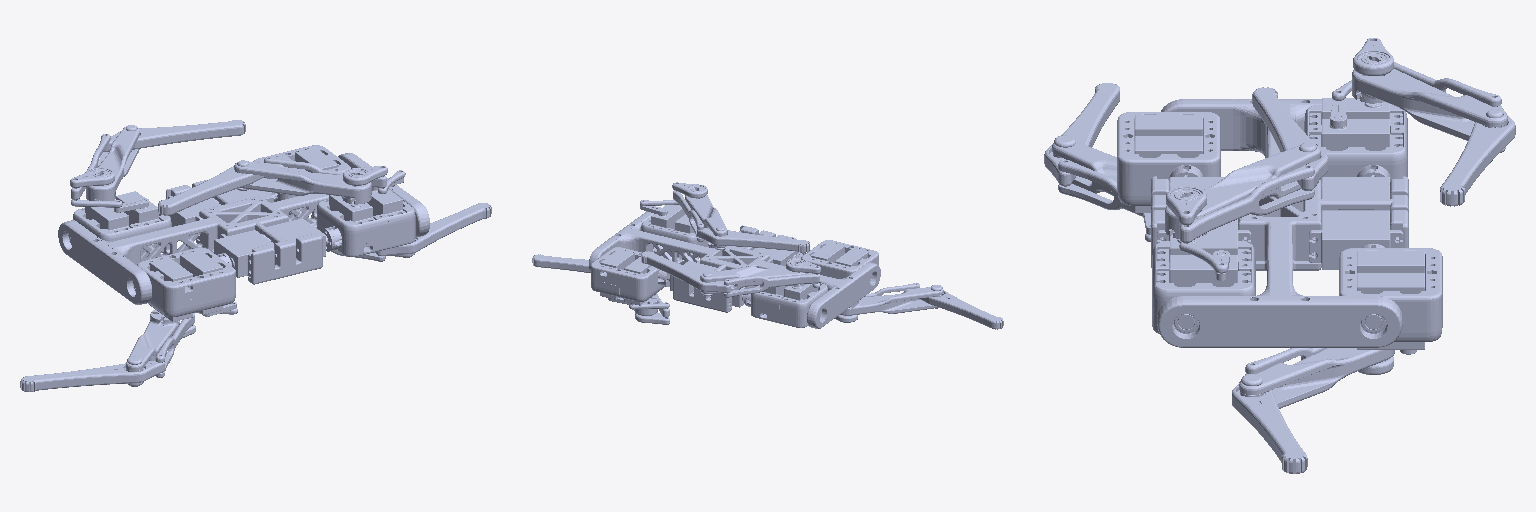
--- What the picture shows (computed from the rendered views, not written in the file) ---
The picture shows the robot from 3 angles, left to right: view 1: azimuth 30°, elevation 25°; view 2: azimuth 150°, elevation 25°; view 3: azimuth 270°, elevation 25°; orthographic projection.
Robot: vettar — 29 links, 28 joints (20 revolute, 8 continuous); root link base_link; default pose: all joints at 0.
Visible links, largest first — view 1: base_link, shoulder_B_R, shoulder_F_R, thighs_F_R, shoulder_B_L, calf_B_R, calf_B_L, thighs_B_L, calf_F_R, calf_F_L, thighs_B_R, shoulder_F_L (+4 smaller); view 2: base_link, shoulder_F_L, shoulder_B_L, shoulder_B_R, thighs_B_R, shoulder_F_R, calf_F_R, calf_B_L, thighs_B_L, calf_B_R, calf_ctrl_link_2_B_L, thighs_F_R (+1 smaller); view 3: base_link, shoulder_B_R, shoulder_F_L, shoulder_B_L, shoulder_F_R, thighs_B_L, thighs_F_L, thighs_F_R, calf_B_L, calf_ctrl_link_2_F_R, calf_F_L, calf_F_R (+8 smaller).
Boxes of the visible links, x1,y1,x2,y2 form: base_link: (58,153,429,304); shoulder_B_R: (135,248,235,321); shoulder_F_R: (317,189,415,256); thighs_F_R: (234,160,371,203); shoulder_B_L: (71,191,171,252); calf_B_R: (20,361,164,391); calf_B_L: (104,120,245,151); thighs_B_L: (86,125,139,200); calf_F_R: (158,166,265,215); calf_F_L: (376,203,491,255); thighs_B_R: (126,310,179,386); shoulder_F_L: (253,145,350,216); base_link: (589,211,880,328); shoulder_F_L: (591,247,669,305); shoulder_B_L: (744,283,827,327); shoulder_B_R: (796,240,878,278); thighs_B_R: (840,285,943,315); shoulder_F_R: (641,205,710,259); calf_F_R: (697,228,809,252); calf_B_L: (641,251,730,293); thighs_B_L: (700,261,807,295); calf_B_R: (919,291,1003,329); calf_ctrl_link_2_B_L: (724,274,819,297); thighs_F_R: (685,187,727,249); base_link: (1151,99,1408,347); shoulder_B_R: (1117,112,1220,212); shoulder_F_L: (1339,244,1442,349); shoulder_B_L: (1304,98,1407,181); shoulder_F_R: (1152,234,1255,333); thighs_B_L: (1352,55,1507,152); thighs_F_L: (1239,348,1394,408); thighs_F_R: (1165,143,1320,238); calf_B_L: (1440,105,1515,206); calf_ctrl_link_2_F_R: (1180,165,1314,242); calf_F_L: (1232,373,1307,473); calf_F_R: (1252,87,1327,190).
Size in the robot's own frame: 0.5226 by 0.2747 by 0.1117 metres.
Meshes: 29 distinct files referenced, 29 mesh visuals loaded (29 binary STL).

The robot description file, URDF, robot "vettar":
<?xml version="1.0" ?>
<!-- =================================================================================== -->
<!-- |    This document was autogenerated by xacro from vettar_description.urdf.xacro  | -->
<!-- |    EDITING THIS FILE BY HAND IS NOT RECOMMENDED                                 | -->
<!-- =================================================================================== -->
<robot name="vettar">
  <link name="base_link">
    <inertial>
      <origin rpy="0 0 0" xyz="0 0 -0.00014"/>
      <mass value="0.396679023415945"/>
      <inertia ixx="0.000363746686904449" ixy="-9.76609071073347E-09" ixz="3.48480589918157E-12" iyy="0.00104522627187434" iyz="-4.57941235308133E-10" izz="0.0013581782694226"/>
    </inertial>
    <visual>
      <origin rpy="0 0 0" xyz="0 0 0"/>
      <geometry>
        <mesh filename="package://vettar_description/meshes/base_link.STL"/>
      </geometry>
      <material name="">
        <color rgba="0.792156862745098 0.819607843137255 0.933333333333333 1"/>
      </material>
    </visual>
    <collision>
      <origin rpy="0 0 0" xyz="0 0 0"/>
      <geometry>
        <mesh filename="package://vettar_description/meshes/base_link.STL"/>
      </geometry>
    </collision>
  </link>
  <link name="shoulder_F_L">
    <inertial>
      <origin rpy="0 0 0" xyz="0.0466819869554319 0.00398419067271394 0.00997792256330394"/>
      <mass value="0.119203480699899"/>
      <inertia ixx="4.49008647458163E-05" ixy="-2.02804766608705E-08" ixz="-3.45414265562375E-06" iyy="4.39339436760174E-05" iyz="-3.33916966792789E-08" izz="2.39881913565821E-05"/>
    </inertial>
    <visual>
      <origin rpy="0 0 0" xyz="0 0 0"/>
      <geometry>
        <mesh filename="package://vettar_description/meshes/shoulder_F_L.STL"/>
      </geometry>
      <material name="">
        <color rgba="0.792156862745098 0.819607843137255 0.933333333333333 1"/>
      </material>
    </visual>
    <collision>
      <origin rpy="0 0 0" xyz="0 0 0"/>
      <geometry>
        <mesh filename="package://vettar_description/meshes/shoulder_F_L.STL"/>
      </geometry>
    </collision>
  </link>
  <joint name="F_L_0" type="revolute">
    <origin rpy="-1.5708 0 0" xyz="0.04685 0.05455 -5E-05"/>
    <parent link="base_link"/>
    <child link="shoulder_F_L"/>
    <axis xyz="1 0 0"/>
    <limit effort="0" lower="0" upper="3.1416" velocity="0"/>
  </joint>
  <link name="thighs_F_L">
    <inertial>
      <origin rpy="0 0 0" xyz="0.0307867646905471 -0.000461376921627524 -0.030805340221158"/>
      <mass value="0.0272931996215248"/>
      <inertia ixx="1.40238605835704E-05" ixy="-2.68315513109657E-07" ixz="1.22583414772541E-05" iyy="2.63265482672728E-05" iyz="2.68517605735526E-07" izz="1.39166912790042E-05"/>
    </inertial>
    <visual>
      <origin rpy="0 0 0" xyz="0 0 0"/>
      <geometry>
        <mesh filename="package://vettar_description/meshes/thighs_F_L.STL"/>
      </geometry>
      <material name="">
        <color rgba="0.792156862745098 0.819607843137255 0.933333333333333 1"/>
      </material>
    </visual>
    <collision>
      <origin rpy="0 0 0" xyz="0 0 0"/>
      <geometry>
        <mesh filename="package://vettar_description/meshes/thighs_F_L.STL"/>
      </geometry>
    </collision>
  </link>
  <joint name="F_L_1" type="revolute">
    <origin rpy="0 0 0" xyz="0.0322 0.0423 0"/>
    <parent link="shoulder_F_L"/>
    <child link="thighs_F_L"/>
    <axis xyz="0 1 0"/>
    <limit effort="0" lower="0" upper="3.1416" velocity="0"/>
  </joint>
  <link name="calf_F_L">
    <inertial>
      <origin rpy="0 0 0" xyz="0.0101406960018604 0 -0.0334060796974647"/>
      <mass value="0.0172535804140555"/>
      <inertia ixx="1.77604626883055E-05" ixy="8.61708375886723E-09" ixz="4.41637781525403E-06" iyy="1.92140238293717E-05" iyz="-2.87034102494065E-08" izz="1.71187663900808E-06"/>
    </inertial>
    <visual>
      <origin rpy="0 0 0" xyz="0 0 0"/>
      <geometry>
        <mesh filename="package://vettar_description/meshes/calf_F_L.STL"/>
      </geometry>
      <material name="">
        <color rgba="0.792156862745098 0.819607843137255 0.933333333333333 1"/>
      </material>
    </visual>
    <collision>
      <origin rpy="0 0 0" xyz="0 0 0"/>
      <geometry>
        <mesh filename="package://vettar_description/meshes/calf_F_L.STL"/>
      </geometry>
    </collision>
  </link>
  <joint name="thighs_to_calf_F_L" type="continuous">
    <origin rpy="0 -1.5708 0" xyz="0.070711 0 -0.070711"/>
    <parent link="thighs_F_L"/>
    <child link="calf_F_L"/>
    <axis xyz="0 1 0"/>
  </joint>
  <link name="servo_arm_F_L">
    <inertial>
      <origin rpy="0 0 0" xyz="0 0 0.0105381418028458"/>
      <mass value="0.000975344106993151"/>
      <inertia ixx="7.54540735330726E-08" ixy="1.16739122284923E-24" ixz="-2.5771099278853E-23" iyy="8.00240618361575E-08" iyz="3.31263426977485E-23" izz="7.84485504908246E-09"/>
    </inertial>
    <visual>
      <origin rpy="0 0 0" xyz="0 0 0"/>
      <geometry>
        <mesh filename="package://vettar_description/meshes/servo_arm_F_L.STL"/>
      </geometry>
      <material name="">
        <color rgba="0.792156862745098 0.819607843137255 0.933333333333333 1"/>
      </material>
    </visual>
    <collision>
      <origin rpy="0 0 0" xyz="0 0 0"/>
      <geometry>
        <mesh filename="package://vettar_description/meshes/servo_arm_F_L.STL"/>
      </geometry>
    </collision>
  </link>
  <joint name="F_L_2" type="revolute">
    <origin rpy="0 -1.5708 0" xyz="0.06205 0.02905 0.0204"/>
    <parent link="shoulder_F_L"/>
    <child link="servo_arm_F_L"/>
    <axis xyz="0 1 0"/>
    <limit effort="0" lower="0" upper="3.1416" velocity="0"/>
  </joint>
  <link name="calf_ctrl_link_1_F_L">
    <inertial>
      <origin rpy="0 0 0" xyz="-0.018075 0 0.000774877828140577"/>
      <mass value="0.00111225029871878"/>
      <inertia ixx="5.72356644536731E-09" ixy="1.42431891656477E-23" ixz="-1.23663501576677E-22" iyy="1.85407386292481E-07" iyz="7.68745190348468E-25" izz="1.8357729196152E-07"/>
    </inertial>
    <visual>
      <origin rpy="0 0 0" xyz="0 0 0"/>
      <geometry>
        <mesh filename="package://vettar_description/meshes/calf_ctrl_link_1_F_L.STL"/>
      </geometry>
      <material name="">
        <color rgba="0.792156862745098 0.819607843137255 0.933333333333333 1"/>
      </material>
    </visual>
    <collision>
      <origin rpy="0 0 0" xyz="0 0 0"/>
      <geometry>
        <mesh filename="package://vettar_description/meshes/calf_ctrl_link_1_F_L.STL"/>
      </geometry>
    </collision>
  </link>
  <joint name="servo_arm_to_calf_ctrl_link_1_F_L" type="revolute">
    <origin rpy="0 0.9724 0" xyz="0 0.00475 0.025"/>
    <parent link="servo_arm_F_L"/>
    <child link="calf_ctrl_link_1_F_L"/>
    <axis xyz="0 1 0"/>
    <limit effort="0" lower="0" upper="3.1416" velocity="0"/>
    <mimic joint="F_L_2" multiplier="-1" offset="0"/>
  </joint>
  <link name="calf_ctrl_b_F_L">
    <inertial>
      <origin rpy="0 0 0" xyz="0 0 0.00688666553553138"/>
      <mass value="0.00354028959618972"/>
      <inertia ixx="3.45528486612269E-07" ixy="-1.84808305160043E-22" ixz="1.46369065700323E-20" iyy="4.52480557794333E-07" iyz="-3.32682143979103E-09" izz="1.30553485579809E-07"/>
    </inertial>
    <visual>
      <origin rpy="0 0 0" xyz="0 0 0"/>
      <geometry>
        <mesh filename="package://vettar_description/meshes/calf_ctrl_b_F_L.STL"/>
      </geometry>
      <material name="">
        <color rgba="0.792156862745098 0.819607843137255 0.933333333333333 1"/>
      </material>
    </visual>
    <collision>
      <origin rpy="0 0 0" xyz="0 0 0"/>
      <geometry>
        <mesh filename="package://vettar_description/meshes/calf_ctrl_b_F_L.STL"/>
      </geometry>
    </collision>
  </link>
  <joint name="shoulder_to_calf_ctrl_b_F_L" type="revolute">
    <origin rpy="0 -1.5708 0" xyz="0.0322 0.0523 0"/>
    <parent link="shoulder_F_L"/>
    <child link="calf_ctrl_b_F_L"/>
    <axis xyz="0 1 0"/>
    <limit effort="0" lower="0" upper="3.1416" velocity="0"/>
    <mimic joint="F_L_2" multiplier="1" offset="0"/>
  </joint>
  <link name="calf_ctrl_link_2_F_L">
    <inertial>
      <origin rpy="0 0 0" xyz="0.00111901337001399 0 -0.0500778792496259"/>
      <mass value="0.00561911163130325"/>
      <inertia ixx="5.89454562373125E-06" ixy="6.73552520504852E-15" ixz="6.42821435707171E-10" iyy="5.75704319182989E-06" iyz="-1.84959192503532E-15" izz="1.70411118036785E-07"/>
    </inertial>
    <visual>
      <origin rpy="0 0 0" xyz="0 0 0"/>
      <geometry>
        <mesh filename="package://vettar_description/meshes/calf_ctrl_link_2_F_L.STL"/>
      </geometry>
      <material name="">
        <color rgba="0.792156862745098 0.819607843137255 0.933333333333333 1"/>
      </material>
    </visual>
    <collision>
      <origin rpy="0 0 0" xyz="0 0 0"/>
      <geometry>
        <mesh filename="package://vettar_description/meshes/calf_ctrl_link_2_F_L.STL"/>
      </geometry>
    </collision>
  </link>
  <joint name="calf_ctrl_b_to_link_2_F_L" type="continuous">
    <origin rpy="0 0.7854 0" xyz="0 -0.010003 0.025"/>
    <parent link="calf_ctrl_b_F_L"/>
    <child link="calf_ctrl_link_2_F_L"/>
    <axis xyz="0 1 0"/>
  </joint>
  <link name="shoulder_F_R">
    <inertial>
      <origin rpy="0 0 0" xyz="0.0467094731756891 -0.00398417940754411 0.00997767995559429"/>
      <mass value="0.11920530580515"/>
      <inertia ixx="4.49016149267523E-05" ixy="2.03939054156098E-08" ixz="-3.45413247787102E-06" iyy="4.39346233462038E-05" iyz="3.31134798240669E-08" izz="2.39882253835948E-05"/>
    </inertial>
    <visual>
      <origin rpy="0 0 0" xyz="0 0 0"/>
      <geometry>
        <mesh filename="package://vettar_description/meshes/shoulder_F_R.STL"/>
      </geometry>
      <material name="">
        <color rgba="0.792156862745098 0.819607843137255 0.933333333333333 1"/>
      </material>
    </visual>
    <collision>
      <origin rpy="0 0 0" xyz="0 0 0"/>
      <geometry>
        <mesh filename="package://vettar_description/meshes/shoulder_F_R.STL"/>
      </geometry>
    </collision>
  </link>
  <joint name="F_R_3" type="revolute">
    <origin rpy="-1.5708 0 0" xyz="0.04685 -0.05455 0"/>
    <parent link="base_link"/>
    <child link="shoulder_F_R"/>
    <axis xyz="1 0 0"/>
    <limit effort="0" lower="0" upper="3.1416" velocity="0"/>
  </joint>
  <link name="thighs_F_R">
    <inertial>
      <origin rpy="0 0 0" xyz="-0.0307867726045708 0.000461376972766436 0.0308053238078066"/>
      <mass value="0.0272931837872823"/>
      <inertia ixx="1.40238518752997E-05" ixy="-2.68316564692751E-07" ixz="1.22583471675323E-05" iyy="2.63265110795453E-05" iyz="2.68519518042869E-07" izz="1.39166609155692E-05"/>
    </inertial>
    <visual>
      <origin rpy="0 0 0" xyz="0 0 0"/>
      <geometry>
        <mesh filename="package://vettar_description/meshes/thighs_F_R.STL"/>
      </geometry>
      <material name="">
        <color rgba="0.792156862745098 0.819607843137255 0.933333333333333 1"/>
      </material>
    </visual>
    <collision>
      <origin rpy="0 0 0" xyz="0 0 0"/>
      <geometry>
        <mesh filename="package://vettar_description/meshes/thighs_F_R.STL"/>
      </geometry>
    </collision>
  </link>
  <joint name="F_R_4" type="revolute">
    <origin rpy="0 0 0" xyz="0.03225 -0.0423 0"/>
    <parent link="shoulder_F_R"/>
    <child link="thighs_F_R"/>
    <axis xyz="0 -1 0"/>
    <limit effort="0" lower="0" upper="3.1416" velocity="0"/>
  </joint>
  <link name="calf_F_R">
    <inertial>
      <origin rpy="0 0 0" xyz="0.010140696002164 0 -0.0334060796979923"/>
      <mass value="0.0172535804143419"/>
      <inertia ixx="1.77604626882643E-05" ixy="-8.61702362435681E-09" ixz="4.41637781537991E-06" iyy="1.92140238297111E-05" iyz="2.87032981478641E-08" izz="1.71187663873301E-06"/>
    </inertial>
    <visual>
      <origin rpy="0 0 0" xyz="0 0 0"/>
      <geometry>
        <mesh filename="package://vettar_description/meshes/calf_F_R.STL"/>
      </geometry>
      <material name="">
        <color rgba="0.792156862745098 0.819607843137255 0.933333333333333 1"/>
      </material>
    </visual>
    <collision>
      <origin rpy="0 0 0" xyz="0 0 0"/>
      <geometry>
        <mesh filename="package://vettar_description/meshes/calf_F_R.STL"/>
      </geometry>
    </collision>
  </link>
  <joint name="thighs_to_calf_F_R" type="continuous">
    <origin rpy="0 1.5708 0" xyz="-0.070711 0 0.070711"/>
    <parent link="thighs_F_R"/>
    <child link="calf_F_R"/>
    <axis xyz="0 -1 0"/>
  </joint>
  <link name="servo_arm_F_R">
    <inertial>
      <origin rpy="0 0 0" xyz="0 0 0.0105381418028457"/>
      <mass value="0.000975344106993152"/>
      <inertia ixx="7.54540735330729E-08" ixy="-1.08761864879061E-24" ixz="5.12597524809289E-23" iyy="8.00240618361578E-08" iyz="-6.10438430796542E-23" izz="7.84485504908247E-09"/>
    </inertial>
    <visual>
      <origin rpy="0 0 0" xyz="0 0 0"/>
      <geometry>
        <mesh filename="package://vettar_description/meshes/servo_arm_F_R.STL"/>
      </geometry>
      <material name="">
        <color rgba="0.792156862745098 0.819607843137255 0.933333333333333 1"/>
      </material>
    </visual>
    <collision>
      <origin rpy="0 0 0" xyz="0 0 0"/>
      <geometry>
        <mesh filename="package://vettar_description/meshes/servo_arm_F_R.STL"/>
      </geometry>
    </collision>
  </link>
  <joint name="F_R_5" type="revolute">
    <origin rpy="0 1.5708 0" xyz="0.0621 -0.02905 0.0204"/>
    <parent link="shoulder_F_R"/>
    <child link="servo_arm_F_R"/>
    <axis xyz="0 -1 0"/>
    <limit effort="0" lower="0" upper="3.1416" velocity="0"/>
  </joint>
  <link name="calf_ctrl_link_1_F_R">
    <inertial>
      <origin rpy="0 0 0" xyz="-0.018075 0 0.000774877828140508"/>
      <mass value="0.00111225029871878"/>
      <inertia ixx="5.72356644536755E-09" ixy="-2.26003951040413E-23" ixz="1.13737334226045E-23" iyy="1.85407386292482E-07" iyz="-2.02406696460792E-24" izz="1.8357729196152E-07"/>
    </inertial>
    <visual>
      <origin rpy="0 0 0" xyz="0 0 0"/>
      <geometry>
        <mesh filename="package://vettar_description/meshes/calf_ctrl_link_1_F_R.STL"/>
      </geometry>
      <material name="">
        <color rgba="0.792156862745098 0.819607843137255 0.933333333333333 1"/>
      </material>
    </visual>
    <collision>
      <origin rpy="0 0 0" xyz="0 0 0"/>
      <geometry>
        <mesh filename="package://vettar_description/meshes/calf_ctrl_link_1_F_R.STL"/>
      </geometry>
    </collision>
  </link>
  <joint name="servo_arm_to_calf_ctrl_link_1_F_R" type="revolute">
    <origin rpy="0 -2.1734 0" xyz="0 -0.00475 0.025"/>
    <parent link="servo_arm_F_R"/>
    <child link="calf_ctrl_link_1_F_R"/>
    <axis xyz="0 -1 0"/>
    <limit effort="0" lower="0" upper="3.1416" velocity="0"/>
    <mimic joint="F_R_5" multiplier="-1" offset="0"/>
  </joint>
  <link name="calf_ctrl_b_F_R">
    <inertial>
      <origin rpy="0 0 0" xyz="0 0 0.00688666553553122"/>
      <mass value="0.00354028959618971"/>
      <inertia ixx="3.45528486612264E-07" ixy="-7.8896407257504E-24" ixz="-6.91787917647197E-21" iyy="4.52480557794311E-07" iyz="3.32682143979124E-09" izz="1.30553485579793E-07"/>
    </inertial>
    <visual>
      <origin rpy="0 0 0" xyz="0 0 0"/>
      <geometry>
        <mesh filename="package://vettar_description/meshes/calf_ctrl_b_F_R.STL"/>
      </geometry>
      <material name="">
        <color rgba="0.792156862745098 0.819607843137255 0.933333333333333 1"/>
      </material>
    </visual>
    <collision>
      <origin rpy="0 0 0" xyz="0 0 0"/>
      <geometry>
        <mesh filename="package://vettar_description/meshes/calf_ctrl_b_F_R.STL"/>
      </geometry>
    </collision>
  </link>
  <joint name="shoulder_to_calf_ctrl_b_F_R" type="revolute">
    <origin rpy="0 1.5708 0" xyz="0.03225 -0.0523 0"/>
    <parent link="shoulder_F_R"/>
    <child link="calf_ctrl_b_F_R"/>
    <axis xyz="0 -1 0"/>
    <limit effort="0" lower="0" upper="3.1416" velocity="0"/>
    <mimic joint="F_R_5" multiplier="1" offset="0"/>
  </joint>
  <link name="calf_ctrl_link_2_F_R">
    <inertial>
      <origin rpy="0 0 0" xyz="0.0011190133700149 0 -0.0500778792496255"/>
      <mass value="0.00561911163130325"/>
      <inertia ixx="5.89454562373125E-06" ixy="6.73552516750252E-15" ixz="6.42821435709857E-10" iyy="5.75704319182989E-06" iyz="-1.84959266424862E-15" izz="1.7041111803679E-07"/>
    </inertial>
    <visual>
      <origin rpy="0 0 0" xyz="0 0 0"/>
      <geometry>
        <mesh filename="package://vettar_description/meshes/calf_ctrl_link_2_F_R.STL"/>
      </geometry>
      <material name="">
        <color rgba="0.792156862745098 0.819607843137255 0.933333333333333 1"/>
      </material>
    </visual>
    <collision>
      <origin rpy="0 0 0" xyz="0 0 0"/>
      <geometry>
        <mesh filename="package://vettar_description/meshes/calf_ctrl_link_2_F_R.STL"/>
      </geometry>
    </collision>
  </link>
  <joint name="calf_ctrl_b_to_link_2_F_R" type="continuous">
    <origin rpy="0 0.7854 0" xyz="0 0.010227 0.025"/>
    <parent link="calf_ctrl_b_F_R"/>
    <child link="calf_ctrl_link_2_F_R"/>
    <axis xyz="0 -1 0"/>
  </joint>
  <link name="shoulder_B_L">
    <inertial>
      <origin rpy="0 0 0" xyz="-0.0466815369109793 0.00398417944209506 0.00997768017568306"/>
      <mass value="0.119205302366461"/>
      <inertia ixx="4.4901614342157E-05" ixy="2.03938148595843E-08" ixz="3.45413063891719E-06" iyy="4.3934620230579E-05" iyz="-3.31136750285268E-08" izz="2.39882229480932E-05"/>
    </inertial>
    <visual>
      <origin rpy="0 0 0" xyz="0 0 0"/>
      <geometry>
        <mesh filename="package://vettar_description/meshes/shoulder_B_L.STL"/>
      </geometry>
      <material name="">
        <color rgba="0.792156862745098 0.819607843137255 0.933333333333333 1"/>
      </material>
    </visual>
    <collision>
      <origin rpy="0 0 0" xyz="0 0 0"/>
      <geometry>
        <mesh filename="package://vettar_description/meshes/shoulder_B_L.STL"/>
      </geometry>
    </collision>
  </link>
  <joint name="B_L_6" type="revolute">
    <origin rpy="1.5708 0 0" xyz="-0.04685 0.05455 0"/>
    <parent link="base_link"/>
    <child link="shoulder_B_L"/>
    <axis xyz="-1 0 0"/>
    <limit effort="0" lower="0" upper="3.1416" velocity="0"/>
  </joint>
  <link name="thighs_B_L">
    <inertial>
      <origin rpy="0 0 0" xyz="0.030786764690059 -0.000461376921627038 -0.0308053402205603"/>
      <mass value="0.0272931996215124"/>
      <inertia ixx="1.40238498403544E-05" ixy="-2.68315513164588E-07" ixz="1.22583467619844E-05" iyy="2.63265267810395E-05" iyz="2.68517605812552E-07" izz="1.39166805359863E-05"/>
    </inertial>
    <visual>
      <origin rpy="0 0 0" xyz="0 0 0"/>
      <geometry>
        <mesh filename="package://vettar_description/meshes/thighs_B_L.STL"/>
      </geometry>
      <material name="">
        <color rgba="0.792156862745098 0.819607843137255 0.933333333333333 1"/>
      </material>
    </visual>
    <collision>
      <origin rpy="0 0 0" xyz="0 0 0"/>
      <geometry>
        <mesh filename="package://vettar_description/meshes/thighs_B_L.STL"/>
      </geometry>
    </collision>
  </link>
  <joint name="B_L_7" type="revolute">
    <origin rpy="0 0 0" xyz="-0.06205 0.0423 0"/>
    <parent link="shoulder_B_L"/>
    <child link="thighs_B_L"/>
    <axis xyz="0 1 0"/>
    <limit effort="0" lower="0" upper="3.1416" velocity="0"/>
  </joint>
  <link name="calf_B_L">
    <inertial>
      <origin rpy="0 0 0" xyz="0.0101406960018602 0 -0.0334060796974651"/>
      <mass value="0.0172535804140553"/>
      <inertia ixx="1.77604626883045E-05" ixy="8.6170837589074E-09" ixz="4.41637781525641E-06" iyy="1.92140238293725E-05" iyz="-2.87034102494069E-08" izz="1.71187663900993E-06"/>
    </inertial>
    <visual>
      <origin rpy="0 0 0" xyz="0 0 0"/>
      <geometry>
        <mesh filename="package://vettar_description/meshes/calf_B_L.STL"/>
      </geometry>
      <material name="">
        <color rgba="0.792156862745098 0.819607843137255 0.933333333333333 1"/>
      </material>
    </visual>
    <collision>
      <origin rpy="0 0 0" xyz="0 0 0"/>
      <geometry>
        <mesh filename="package://vettar_description/meshes/calf_B_L.STL"/>
      </geometry>
    </collision>
  </link>
  <joint name="thighs_to_calf_B_L" type="continuous">
    <origin rpy="0 -1.5708 0" xyz="0.070711 0 -0.070711"/>
    <parent link="thighs_B_L"/>
    <child link="calf_B_L"/>
    <axis xyz="0 1 0"/>
  </joint>
  <link name="servo_arm_B_L">
    <inertial>
      <origin rpy="0 0 0" xyz="0 0 0.0105381418028457"/>
      <mass value="0.000975344106993152"/>
      <inertia ixx="7.54540735330728E-08" ixy="5.61001260621498E-24" ixz="-2.51863031739294E-23" iyy="8.00240618361577E-08" iyz="-1.14098922559324E-23" izz="7.84485504908248E-09"/>
    </inertial>
    <visual>
      <origin rpy="0 0 0" xyz="0 0 0"/>
      <geometry>
        <mesh filename="package://vettar_description/meshes/servo_arm_B_L.STL"/>
      </geometry>
      <material name="">
        <color rgba="0.792156862745098 0.819607843137255 0.933333333333333 1"/>
      </material>
    </visual>
    <collision>
      <origin rpy="0 0 0" xyz="0 0 0"/>
      <geometry>
        <mesh filename="package://vettar_description/meshes/servo_arm_B_L.STL"/>
      </geometry>
    </collision>
  </link>
  <joint name="B_L_8" type="revolute">
    <origin rpy="0 -1.5708 0" xyz="-0.0322 0.02905 0.0204"/>
    <parent link="shoulder_B_L"/>
    <child link="servo_arm_B_L"/>
    <axis xyz="0 1 0"/>
    <limit effort="0" lower="0" upper="3.1416" velocity="0"/>
  </joint>
  <link name="calf_ctrl_link_1_B_L">
    <inertial>
      <origin rpy="0 0 0" xyz="-0.018075 0 0.000774877828140558"/>
      <mass value="0.00111225029871879"/>
      <inertia ixx="5.72356644536615E-09" ixy="7.05013356582078E-24" ixz="4.1565825780791E-23" iyy="1.85407386292481E-07" iyz="-3.2917035161866E-24" izz="1.8357729196152E-07"/>
    </inertial>
    <visual>
      <origin rpy="0 0 0" xyz="0 0 0"/>
      <geometry>
        <mesh filename="package://vettar_description/meshes/calf_ctrl_link_1_B_L.STL"/>
      </geometry>
      <material name="">
        <color rgba="0.792156862745098 0.819607843137255 0.933333333333333 1"/>
      </material>
    </visual>
    <collision>
      <origin rpy="0 0 0" xyz="0 0 0"/>
      <geometry>
        <mesh filename="package://vettar_description/meshes/calf_ctrl_link_1_B_L.STL"/>
      </geometry>
    </collision>
  </link>
  <joint name="servo_arm_to_calf_ctrl_link_1_B_L" type="revolute">
    <origin rpy="0 0.9724 0" xyz="0 0.00475 0.025"/>
    <parent link="servo_arm_B_L"/>
    <child link="calf_ctrl_link_1_B_L"/>
    <axis xyz="0 1 0"/>
    <limit effort="0" lower="0" upper="3.1416" velocity="0"/>
    <mimic joint="B_L_8" multiplier="-1" offset="0"/>
  </joint>
  <link name="calf_ctrl_b_B_L">
    <inertial>
      <origin rpy="0 0 0" xyz="0 0 0.00688666553553139"/>
      <mass value="0.00354028959618972"/>
      <inertia ixx="3.45528486612273E-07" ixy="-8.92084761984018E-23" ixz="7.73645208907431E-21" iyy="4.52480557794327E-07" iyz="-3.32682143979098E-09" izz="1.30553485579799E-07"/>
    </inertial>
    <visual>
      <origin rpy="0 0 0" xyz="0 0 0"/>
      <geometry>
        <mesh filename="package://vettar_description/meshes/calf_ctrl_b_B_L.STL"/>
      </geometry>
      <material name="">
        <color rgba="0.792156862745098 0.819607843137255 0.933333333333333 1"/>
      </material>
    </visual>
    <collision>
      <origin rpy="0 0 0" xyz="0 0 0"/>
      <geometry>
        <mesh filename="package://vettar_description/meshes/calf_ctrl_b_B_L.STL"/>
      </geometry>
    </collision>
  </link>
  <joint name="shoulder_to_calf_ctrl_b_B_L" type="revolute">
    <origin rpy="0 -1.5708 0" xyz="-0.06205 0.0523 0"/>
    <parent link="shoulder_B_L"/>
    <child link="calf_ctrl_b_B_L"/>
    <axis xyz="0 1 0"/>
    <limit effort="0" lower="0" upper="3.1416" velocity="0"/>
    <mimic joint="B_L_8" multiplier="1" offset="0"/>
  </joint>
  <link name="calf_ctrl_link_2_B_L">
    <inertial>
      <origin rpy="0 0 0" xyz="0.00111901337001398 0 -0.0500778792496259"/>
      <mass value="0.00561911163130327"/>
      <inertia ixx="5.89454562373127E-06" ixy="6.73552536411969E-15" ixz="6.42821435708838E-10" iyy="5.75704319182991E-06" iyz="-1.84959224942376E-15" izz="1.70411118036791E-07"/>
    </inertial>
    <visual>
      <origin rpy="0 0 0" xyz="0 0 0"/>
      <geometry>
        <mesh filename="package://vettar_description/meshes/calf_ctrl_link_2_B_L.STL"/>
      </geometry>
      <material name="">
        <color rgba="0.792156862745098 0.819607843137255 0.933333333333333 1"/>
      </material>
    </visual>
    <collision>
      <origin rpy="0 0 0" xyz="0 0 0"/>
      <geometry>
        <mesh filename="package://vettar_description/meshes/calf_ctrl_link_2_B_L.STL"/>
      </geometry>
    </collision>
  </link>
  <joint name="calf_ctrl_b_to_link_2_B_L" type="continuous">
    <origin rpy="0 0.7854 0" xyz="0 -0.010003 0.025"/>
    <parent link="calf_ctrl_b_B_L"/>
    <child link="calf_ctrl_link_2_B_L"/>
    <axis xyz="0 1 0"/>
  </joint>
  <link name="shoulder_B_R">
    <inertial>
      <origin rpy="0 0 0" xyz="-0.0466959554589567 -0.00398419169544706 0.00997792116955153"/>
      <mass value="0.119203475597298"/>
      <inertia ixx="4.49008618297834E-05" ixy="-2.02803179924207E-08" ixz="3.45414100329332E-06" iyy="4.39339407938332E-05" iyz="3.33912792525491E-08" izz="2.39881877030711E-05"/>
    </inertial>
    <visual>
      <origin rpy="0 0 0" xyz="0 0 0"/>
      <geometry>
        <mesh filename="package://vettar_description/meshes/shoulder_B_R.STL"/>
      </geometry>
      <material name="">
        <color rgba="0.792156862745098 0.819607843137255 0.933333333333333 1"/>
      </material>
    </visual>
    <collision>
      <origin rpy="0 0 0" xyz="0 0 0"/>
      <geometry>
        <mesh filename="package://vettar_description/meshes/shoulder_B_R.STL"/>
      </geometry>
    </collision>
  </link>
  <joint name="B_R_9" type="revolute">
    <origin rpy="1.5708 0 0" xyz="-0.04685 -0.05455 0"/>
    <parent link="base_link"/>
    <child link="shoulder_B_R"/>
    <axis xyz="-1 0 0"/>
    <limit effort="0" lower="0" upper="3.1416" velocity="0"/>
  </joint>
  <link name="thighs_B_R">
    <inertial>
      <origin rpy="0 0 0" xyz="-0.0307867726053932 0.000461376972888131 0.0308053238073376"/>
      <mass value="0.0272931837886617"/>
      <inertia ixx="1.40238538562877E-05" ixy="-2.68316564541122E-07" ixz="1.22583446631845E-05" iyy="2.63265150394118E-05" iyz="2.68519518066761E-07" izz="1.39166628945209E-05"/>
    </inertial>
    <visual>
      <origin rpy="0 0 0" xyz="0 0 0"/>
      <geometry>
        <mesh filename="package://vettar_description/meshes/thighs_B_R.STL"/>
      </geometry>
      <material name="">
        <color rgba="0.792156862745098 0.819607843137255 0.933333333333333 1"/>
      </material>
    </visual>
    <collision>
      <origin rpy="0 0 0" xyz="0 0 0"/>
      <geometry>
        <mesh filename="package://vettar_description/meshes/thighs_B_R.STL"/>
      </geometry>
    </collision>
  </link>
  <joint name="B_R_10" type="revolute">
    <origin rpy="0 0 0" xyz="-0.06205 -0.0423 0"/>
    <parent link="shoulder_B_R"/>
    <child link="thighs_B_R"/>
    <axis xyz="0 -1 0"/>
    <limit effort="0" lower="0" upper="3.1416" velocity="0"/>
  </joint>
  <link name="calf_B_R">
    <inertial>
      <origin rpy="0 0 0" xyz="0.0101406960021609 0 -0.0334060796979923"/>
      <mass value="0.0172535804143414"/>
      <inertia ixx="1.77604626882642E-05" ixy="-8.61702362435667E-09" ixz="4.41637781538056E-06" iyy="1.92140238297068E-05" iyz="2.8703298147857E-08" izz="1.71187663872884E-06"/>
    </inertial>
    <visual>
      <origin rpy="0 0 0" xyz="0 0 0"/>
      <geometry>
        <mesh filename="package://vettar_description/meshes/calf_B_R.STL"/>
      </geometry>
      <material name="">
        <color rgba="0.792156862745098 0.819607843137255 0.933333333333333 1"/>
      </material>
    </visual>
    <collision>
      <origin rpy="0 0 0" xyz="0 0 0"/>
      <geometry>
        <mesh filename="package://vettar_description/meshes/calf_B_R.STL"/>
      </geometry>
    </collision>
  </link>
  <joint name="thighs_to_calf_B_R" type="continuous">
    <origin rpy="0 1.5708 0" xyz="-0.070711 0 0.070711"/>
    <parent link="thighs_B_R"/>
    <child link="calf_B_R"/>
    <axis xyz="0 -1 0"/>
  </joint>
  <link name="servo_arm_B_R">
    <inertial>
      <origin rpy="0 0 0" xyz="0 0 0.0105381418028458"/>
      <mass value="0.000975344106993151"/>
      <inertia ixx="7.54540735330726E-08" ixy="-2.04783668548393E-26" ixz="5.60770294174133E-23" iyy="8.00240618361575E-08" iyz="2.38073259914569E-23" izz="7.84485504908246E-09"/>
    </inertial>
    <visual>
      <origin rpy="0 0 0" xyz="0 0 0"/>
      <geometry>
        <mesh filename="package://vettar_description/meshes/servo_arm_B_R.STL"/>
      </geometry>
      <material name="">
        <color rgba="0.792156862745098 0.819607843137255 0.933333333333333 1"/>
      </material>
    </visual>
    <collision>
      <origin rpy="0 0 0" xyz="0 0 0"/>
      <geometry>
        <mesh filename="package://vettar_description/meshes/servo_arm_B_R.STL"/>
      </geometry>
    </collision>
  </link>
  <joint name="B_R_11" type="revolute">
    <origin rpy="0 1.5708 0" xyz="-0.03225 -0.02905 0.0204"/>
    <parent link="shoulder_B_R"/>
    <child link="servo_arm_B_R"/>
    <axis xyz="0 -1 0"/>
    <limit effort="0" lower="0" upper="3.1416" velocity="0"/>
  </joint>
  <link name="calf_ctrl_link_1_B_R">
    <inertial>
      <origin rpy="0 0 0" xyz="-0.018075 0 0.000774877828140549"/>
      <mass value="0.00111225029871878"/>
      <inertia ixx="5.72356644536696E-09" ixy="1.24626241397099E-23" ixz="-2.48154183765846E-24" iyy="1.8540738629248E-07" iyz="2.02017107427188E-23" izz="1.83577291961519E-07"/>
    </inertial>
    <visual>
      <origin rpy="0 0 0" xyz="0 0 0"/>
      <geometry>
        <mesh filename="package://vettar_description/meshes/calf_ctrl_link_1_B_R.STL"/>
      </geometry>
      <material name="">
        <color rgba="0.792156862745098 0.819607843137255 0.933333333333333 1"/>
      </material>
    </visual>
    <collision>
      <origin rpy="0 0 0" xyz="0 0 0"/>
      <geometry>
        <mesh filename="package://vettar_description/meshes/calf_ctrl_link_1_B_R.STL"/>
      </geometry>
    </collision>
  </link>
  <joint name="servo_arm_to_calf_ctrl_link_1_B_R" type="revolute">
    <origin rpy="0 -2.1734 0" xyz="0 -0.00475 0.025"/>
    <parent link="servo_arm_B_R"/>
    <child link="calf_ctrl_link_1_B_R"/>
    <axis xyz="0 -1 0"/>
    <limit effort="0" lower="0" upper="3.1416" velocity="0"/>
    <mimic joint="B_R_11" multiplier="-1" offset="0"/>
  </joint>
  <link name="calf_ctrl_b_B_R">
    <inertial>
      <origin rpy="0 0 0" xyz="0 0 0.00688666553553131"/>
      <mass value="0.00354028959618971"/>
      <inertia ixx="3.45528486612257E-07" ixy="1.95488982426395E-22" ixz="-1.76968389214613E-20" iyy="4.52480557794315E-07" iyz="3.32682143979103E-09" izz="1.30553485579803E-07"/>
    </inertial>
    <visual>
      <origin rpy="0 0 0" xyz="0 0 0"/>
      <geometry>
        <mesh filename="package://vettar_description/meshes/calf_ctrl_b_B_R.STL"/>
      </geometry>
      <material name="">
        <color rgba="0.792156862745098 0.819607843137255 0.933333333333333 1"/>
      </material>
    </visual>
    <collision>
      <origin rpy="0 0 0" xyz="0 0 0"/>
      <geometry>
        <mesh filename="package://vettar_description/meshes/calf_ctrl_b_B_R.STL"/>
      </geometry>
    </collision>
  </link>
  <joint name="shoulder_to_calf_ctrl_b_B_R" type="revolute">
    <origin rpy="0 1.5708 0" xyz="-0.06205 -0.0523 0"/>
    <parent link="shoulder_B_R"/>
    <child link="calf_ctrl_b_B_R"/>
    <axis xyz="0 -1 0"/>
    <limit effort="0" lower="0" upper="3.1416" velocity="0"/>
    <mimic joint="B_R_11" multiplier="1" offset="0"/>
  </joint>
  <link name="calf_ctrl_link_2_B_R">
    <inertial>
      <origin rpy="0 0 0" xyz="0.00111901337001404 0 -0.050077879249626"/>
      <mass value="0.00561911163130324"/>
      <inertia ixx="5.89454562373123E-06" ixy="6.73552512083439E-15" ixz="6.42821435710546E-10" iyy="5.75704319182986E-06" iyz="-1.84959263472647E-15" izz="1.70411118036771E-07"/>
    </inertial>
    <visual>
      <origin rpy="0 0 0" xyz="0 0 0"/>
      <geometry>
        <mesh filename="package://vettar_description/meshes/calf_ctrl_link_2_B_R.STL"/>
      </geometry>
      <material name="">
        <color rgba="0.792156862745098 0.819607843137255 0.933333333333333 1"/>
      </material>
    </visual>
    <collision>
      <origin rpy="0 0 0" xyz="0 0 0"/>
      <geometry>
        <mesh filename="package://vettar_description/meshes/calf_ctrl_link_2_B_R.STL"/>
      </geometry>
    </collision>
  </link>
  <joint name="calf_ctrl_b_to_link_2_B_R" type="continuous">
    <origin rpy="0 0.7854 0" xyz="0 0.010227 0.025"/>
    <parent link="calf_ctrl_b_B_R"/>
    <child link="calf_ctrl_link_2_B_R"/>
    <axis xyz="0 -1 0"/>
  </joint>
  <ros2_control name="VettarSystem" type="system">
    <hardware>
      <plugin>vettar_interface/VettarHardwareInterface</plugin>
      <param name="simulation_mode">false</param>
    </hardware>
    <joint name="F_L_0">
      <command_interface name="position"/>
      <state_interface name="position"/>
    </joint>
    <transmission name="F_L_0_trans">
      <type>transmission_interface/SimpleTransmission</type>
      <joint name="F_L_0">
        <hardwareInterface>position</hardwareInterface>
      </joint>
      <actuator name="F_L_0_actuator">
        <hardwareInterface>position</hardwareInterface>
        <mechanicalReduction>1</mechanicalReduction>
      </actuator>
    </transmission>
    <joint name="F_L_1">
      <command_interface name="position"/>
      <state_interface name="position"/>
    </joint>
    <transmission name="F_L_1_trans">
      <type>transmission_interface/SimpleTransmission</type>
      <joint name="F_L_1">
        <hardwareInterface>position</hardwareInterface>
      </joint>
      <actuator name="F_L_1_actuator">
        <hardwareInterface>position</hardwareInterface>
        <mechanicalReduction>1</mechanicalReduction>
      </actuator>
    </transmission>
    <joint name="F_L_2">
      <command_interface name="position"/>
      <state_interface name="position"/>
    </joint>
    <transmission name="F_L_2_trans">
      <type>transmission_interface/SimpleTransmission</type>
      <joint name="F_L_2">
        <hardwareInterface>position</hardwareInterface>
      </joint>
      <actuator name="F_L_2_actuator">
        <hardwareInterface>position</hardwareInterface>
        <mechanicalReduction>1</mechanicalReduction>
      </actuator>
    </transmission>
    <joint name="F_R_3">
      <command_interface name="position"/>
      <state_interface name="position"/>
    </joint>
    <transmission name="F_R_3_trans">
      <type>transmission_interface/SimpleTransmission</type>
      <joint name="F_R_3">
        <hardwareInterface>position</hardwareInterface>
      </joint>
      <actuator name="F_R_3_actuator">
        <hardwareInterface>position</hardwareInterface>
        <mechanicalReduction>1</mechanicalReduction>
      </actuator>
    </transmission>
    <joint name="F_R_4">
      <command_interface name="position"/>
      <state_interface name="position"/>
    </joint>
    <transmission name="F_R_4_trans">
      <type>transmission_interface/SimpleTransmission</type>
      <joint name="F_R_4">
        <hardwareInterface>position</hardwareInterface>
      </joint>
      <actuator name="F_R_4_actuator">
        <hardwareInterface>position</hardwareInterface>
        <mechanicalReduction>1</mechanicalReduction>
      </actuator>
    </transmission>
    <joint name="F_R_5">
      <command_interface name="position"/>
      <state_interface name="position"/>
    </joint>
    <transmission name="F_R_5_trans">
      <type>transmission_interface/SimpleTransmission</type>
      <joint name="F_R_5">
        <hardwareInterface>position</hardwareInterface>
      </joint>
      <actuator name="F_R_5_actuator">
        <hardwareInterface>position</hardwareInterface>
        <mechanicalReduction>1</mechanicalReduction>
      </actuator>
    </transmission>
    <joint name="B_L_6">
      <command_interface name="position"/>
      <state_interface name="position"/>
    </joint>
    <transmission name="B_L_6_trans">
      <type>transmission_interface/SimpleTransmission</type>
      <joint name="B_L_6">
        <hardwareInterface>position</hardwareInterface>
      </joint>
      <actuator name="B_L_6_actuator">
        <hardwareInterface>position</hardwareInterface>
        <mechanicalReduction>1</mechanicalReduction>
      </actuator>
    </transmission>
    <joint name="B_L_7">
      <command_interface name="position"/>
      <state_interface name="position"/>
    </joint>
    <transmission name="B_L_7_trans">
      <type>transmission_interface/SimpleTransmission</type>
      <joint name="B_L_7">
        <hardwareInterface>position</hardwareInterface>
      </joint>
      <actuator name="B_L_7_actuator">
        <hardwareInterface>position</hardwareInterface>
        <mechanicalReduction>1</mechanicalReduction>
      </actuator>
    </transmission>
    <joint name="B_L_8">
      <command_interface name="position"/>
      <state_interface name="position"/>
    </joint>
    <transmission name="B_L_8_trans">
      <type>transmission_interface/SimpleTransmission</type>
      <joint name="B_L_8">
        <hardwareInterface>position</hardwareInterface>
      </joint>
      <actuator name="B_L_8_actuator">
        <hardwareInterface>position</hardwareInterface>
        <mechanicalReduction>1</mechanicalReduction>
      </actuator>
    </transmission>
    <joint name="B_R_9">
      <command_interface name="position"/>
      <state_interface name="position"/>
    </joint>
    <transmission name="B_R_9_trans">
      <type>transmission_interface/SimpleTransmission</type>
      <joint name="B_R_9">
        <hardwareInterface>position</hardwareInterface>
      </joint>
      <actuator name="B_R_9_actuator">
        <hardwareInterface>position</hardwareInterface>
        <mechanicalReduction>1</mechanicalReduction>
      </actuator>
    </transmission>
    <joint name="B_R_10">
      <command_interface name="position"/>
      <state_interface name="position"/>
    </joint>
    <transmission name="B_R_10_trans">
      <type>transmission_interface/SimpleTransmission</type>
      <joint name="B_R_10">
        <hardwareInterface>position</hardwareInterface>
      </joint>
      <actuator name="B_R_10_actuator">
        <hardwareInterface>position</hardwareInterface>
        <mechanicalReduction>1</mechanicalReduction>
      </actuator>
    </transmission>
    <joint name="B_R_11">
      <command_interface name="position"/>
      <state_interface name="position"/>
    </joint>
    <transmission name="B_R_11_trans">
      <type>transmission_interface/SimpleTransmission</type>
      <joint name="B_R_11">
        <hardwareInterface>position</hardwareInterface>
      </joint>
      <actuator name="B_R_11_actuator">
        <hardwareInterface>position</hardwareInterface>
        <mechanicalReduction>1</mechanicalReduction>
      </actuator>
    </transmission>
  </ros2_control>
</robot>
